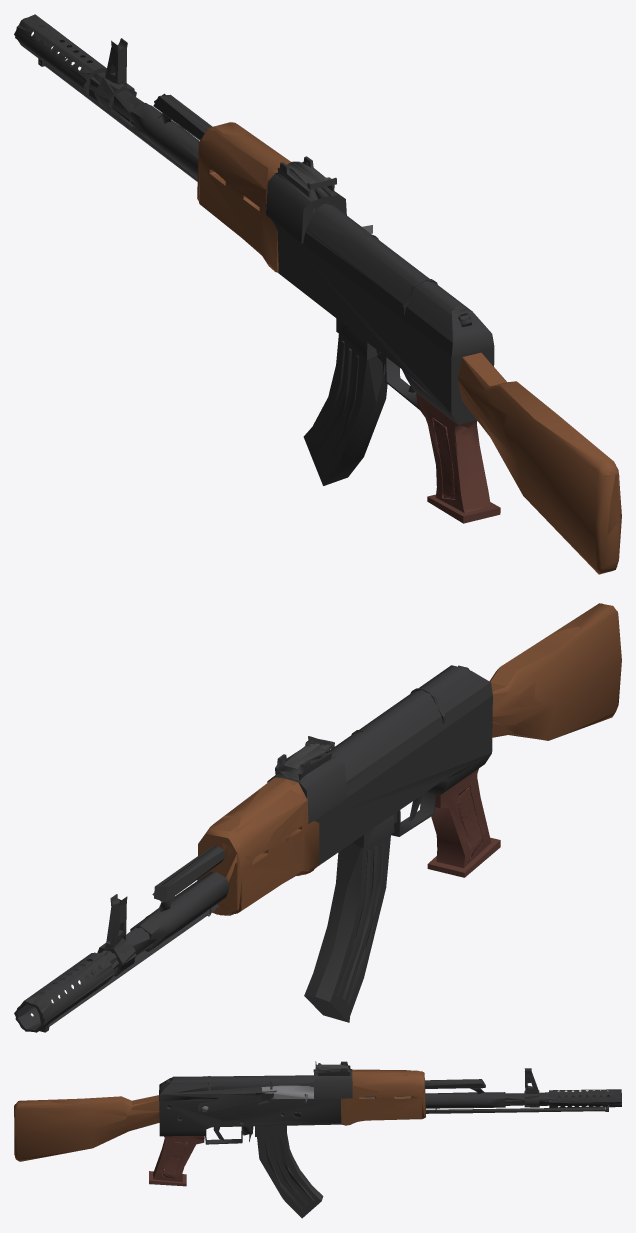
3 renders of one model, top to bottom at view 1: azimuth 30°, elevation 25°; view 2: azimuth 150°, elevation 25°; view 3: azimuth 270°, elevation 25°, orthographic. The views are drawn at different scales.
Visible parts, largest first — view 1: Cube.046; view 2: Cube.046; view 3: Cube.046.
Boxes of the visible parts, x1,y1,x2,y2 form: Cube.046: [14, 14, 621, 574]; Cube.046: [14, 603, 621, 1032]; Cube.046: [14, 1061, 621, 1218].
Size of the model in its own units: 0.0517 by 0.2261 by 0.8184.
